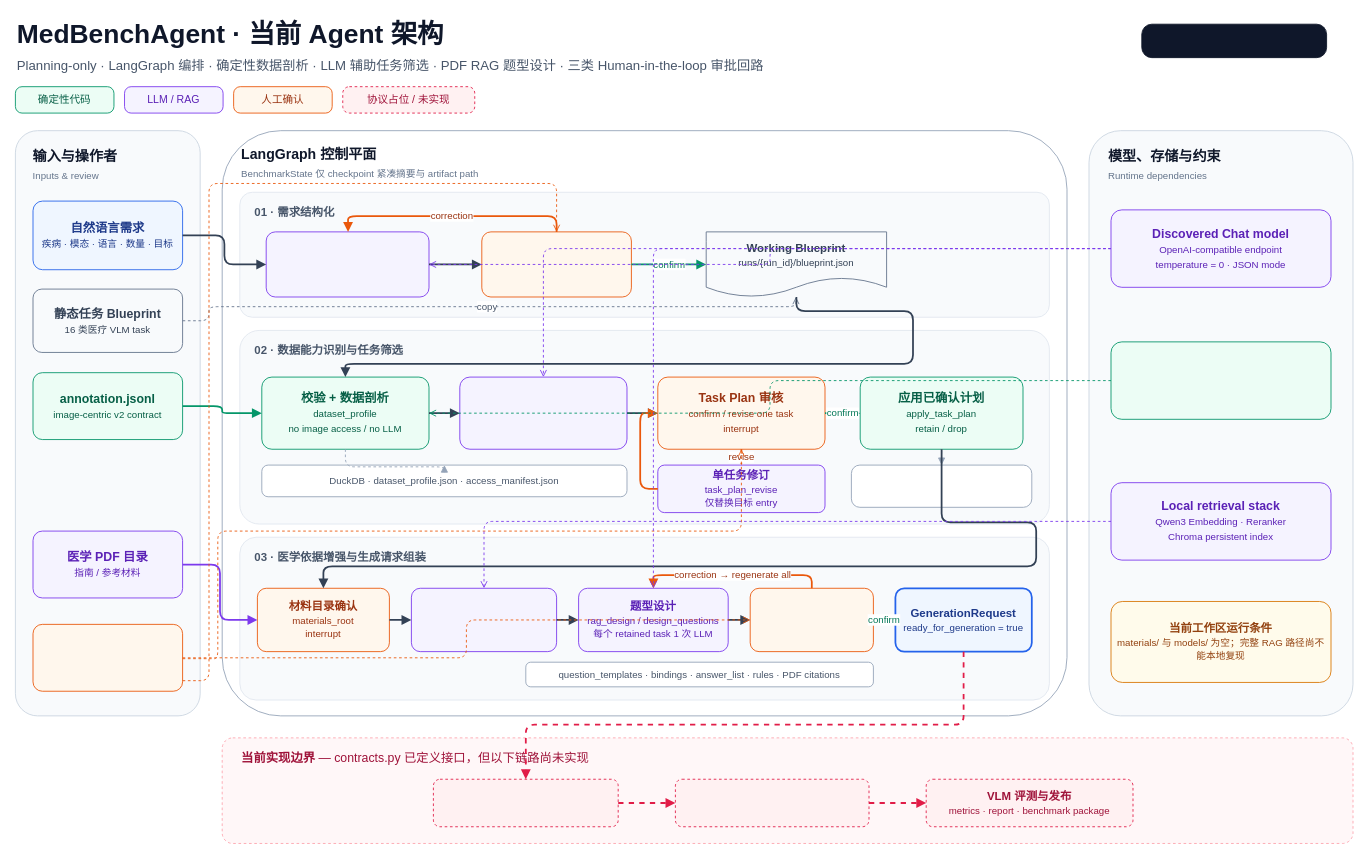
The diagram is 1368 pixels wide and 859 high, and some of its shapes have lost their labels. The shapes that lost their labels are listed below. From the top down, each one's centre as x and y in pixels, then its label:
point 1234,40: CURRENT / AS-IS
point 347,264: BenchmarkInfo 提取 benchmark_extract Chat LLM JSON
point 556,264: 需求确认 benchmark_confirm interrupt
point 1220,380: Content-addressed cache SHA-256 + cache format version DuckDB / JSON artifacts
point 543,412: 完整 Task Plan generate_task_plan LLM + deterministic contract
point 941,485: task_plan_report.json + mutated working Blueprint
point 484,619: LocalPdfRag rag_design 内部 PyPDF → Chroma
point 811,619: 设计确认 design_review interrupt
point 107,657: Human reviewer 3 类审批回路 + 路径输入
point 525,802: BenchmarkGenerator 采样 + 问题实例化
point 772,802: BenchmarkItem[] 问题 · 答案 · 图像 · provenance
